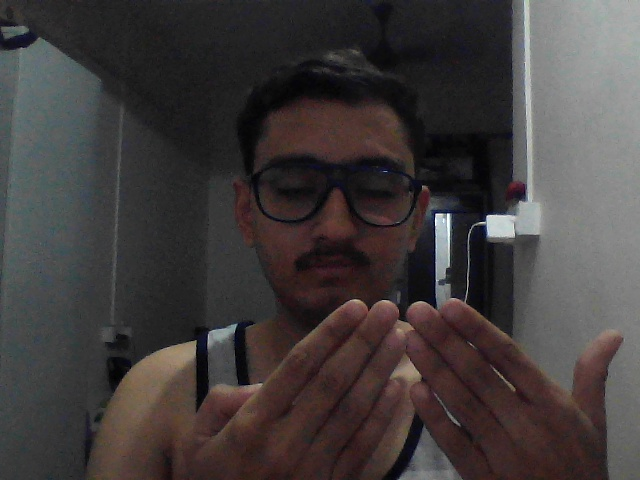Thank You: (169, 256, 640, 480)
